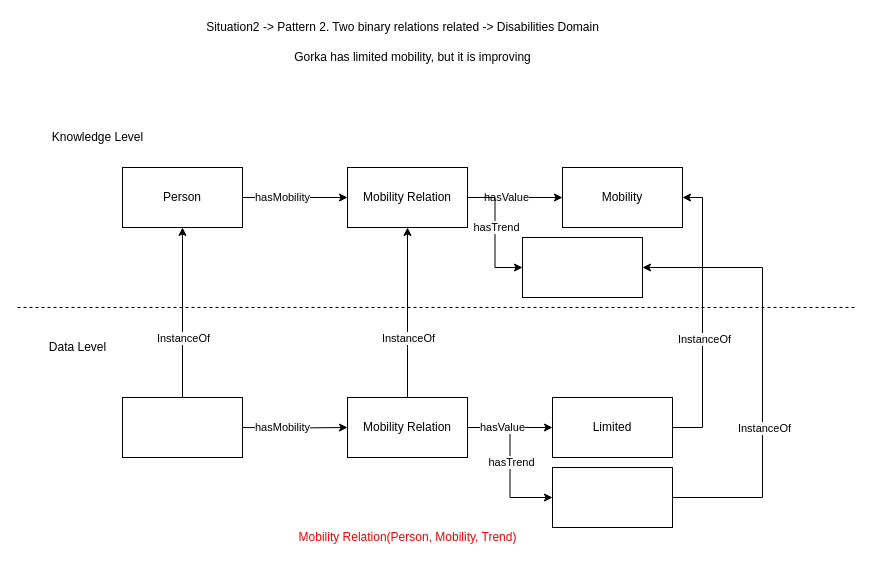
This 876x564 diagram has some shape labels left out. Each missing label, with the centre of its shape:
"Gorka" belongs at (182,427).
"Improving" belongs at (612,497).
"Trend" belongs at (582,267).
